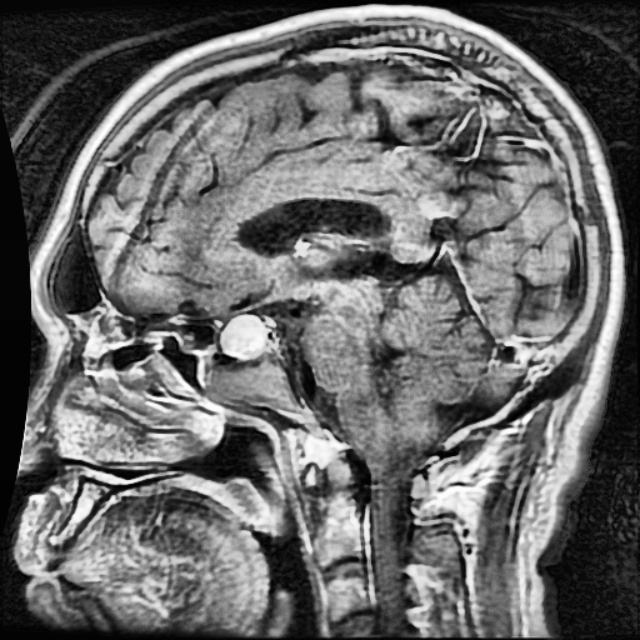Pituitary: (222, 314, 267, 358)
